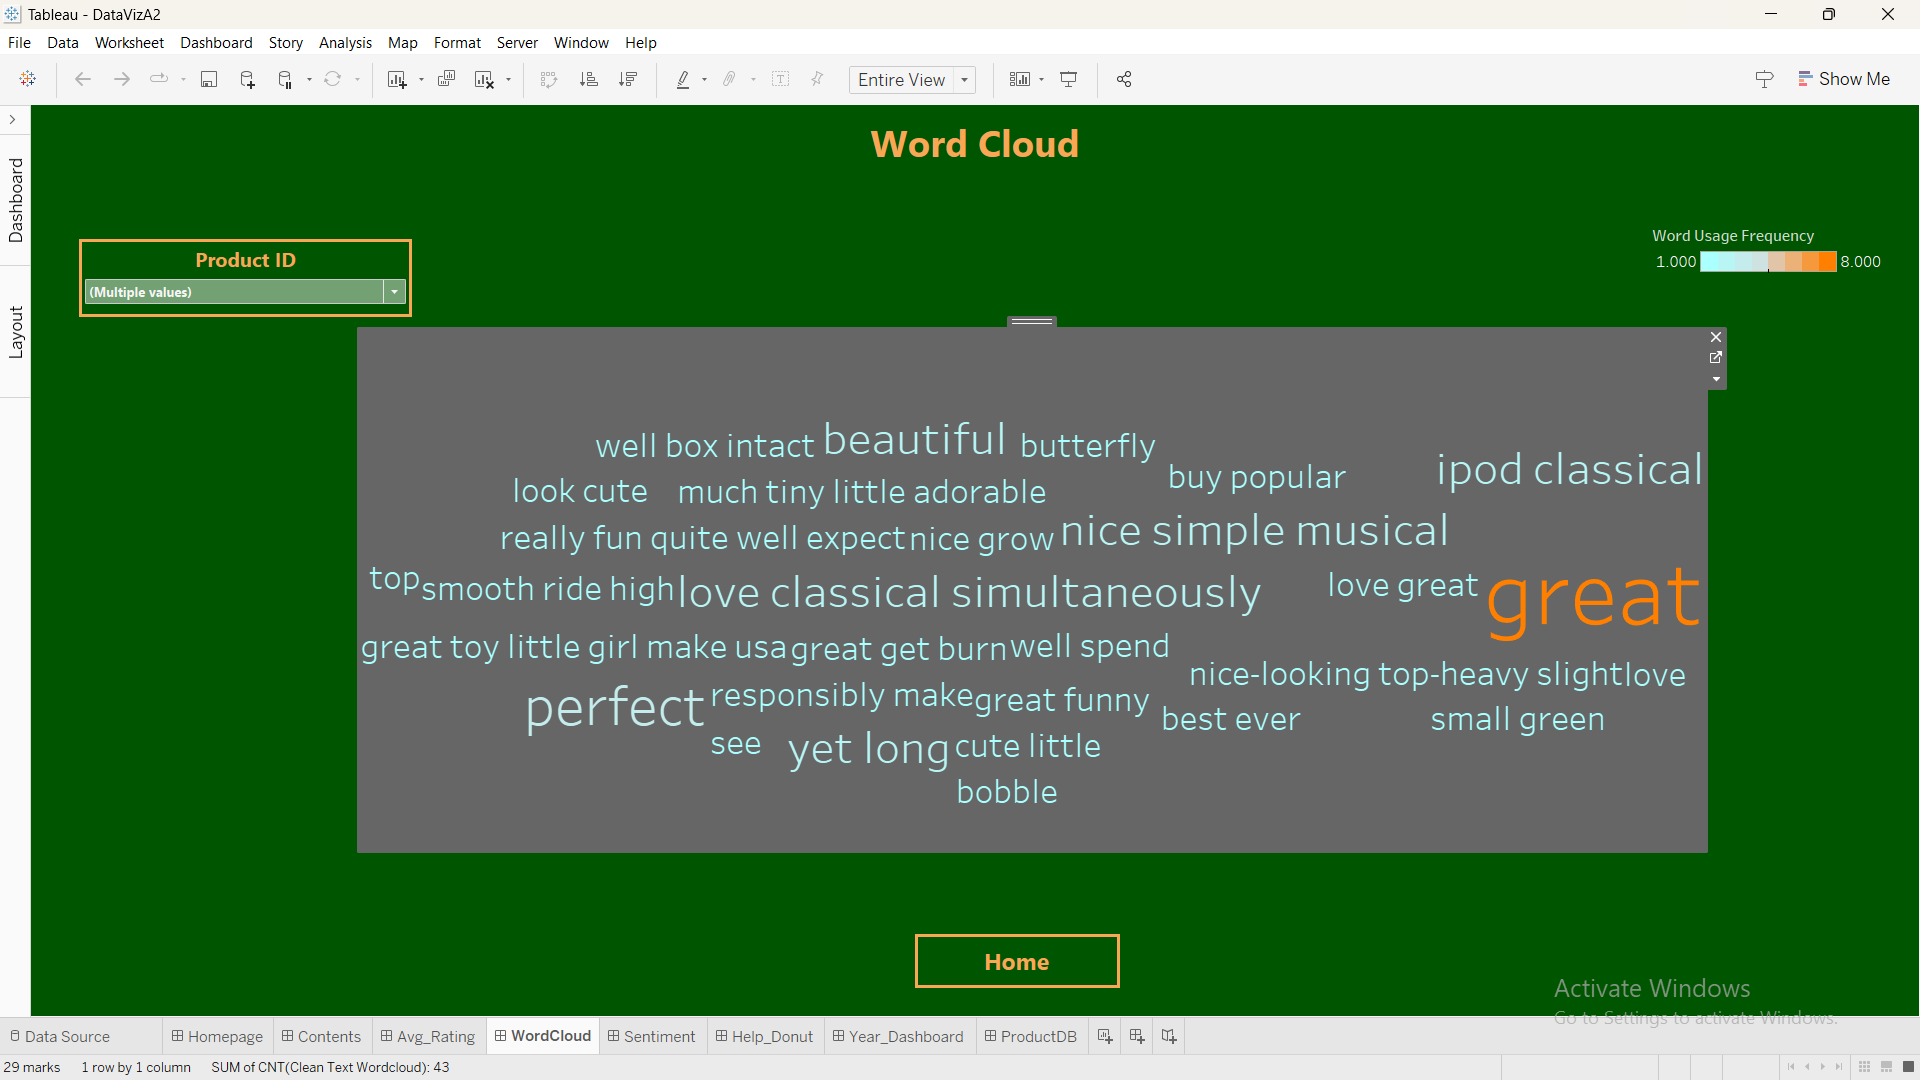

Layout of this report page (visuals, bound fields, positions):
{"tool":"tableau","page":{"name":"WordCloud","canvas":[1000,1000],"units":"permille","ordinal":6},"visuals":[{"type":"title","box":[4.8,8.8,990.3,63.7]},{"type":"legend","title":"wcloud","param":"[federated.1woml7a03dh35r1a2w3kd0ithv3e].[cnt:clean_text_wordcloud:qk]","box":[858.8,131.7,123.7,73.3]},{"type":"filter","title":"wcloud","param":"[federated.1woml7a03dh35r1a2w3kd0ithv3e].[none:asin:nk]","box":[25.4,146.6,176.2,85.9]},{"type":"worksheet","title":"wcloud","mark":"Text","box":[173.8,246.3,713.3,572.7]},{"type":"dashboard-object","box":[468.3,909.5,108.6,59.6]}]}

Visuals, with their boxes on the dashboard's canvas, which has no fixed pixel size, in thousandths of its width and height (x1, y1, x2, y2). These are canvas units, not pixel positions in the 1920x1080 screenshot, which may show the page scaled, cropped or inside an application window:
title: <box>5,9,995,72</box>
"wcloud" legend: <box>859,132,982,205</box>
"wcloud" filter: <box>25,147,202,232</box>
"wcloud" worksheet (Text marks): <box>174,246,887,819</box>
dashboard-object: <box>468,910,577,969</box>
